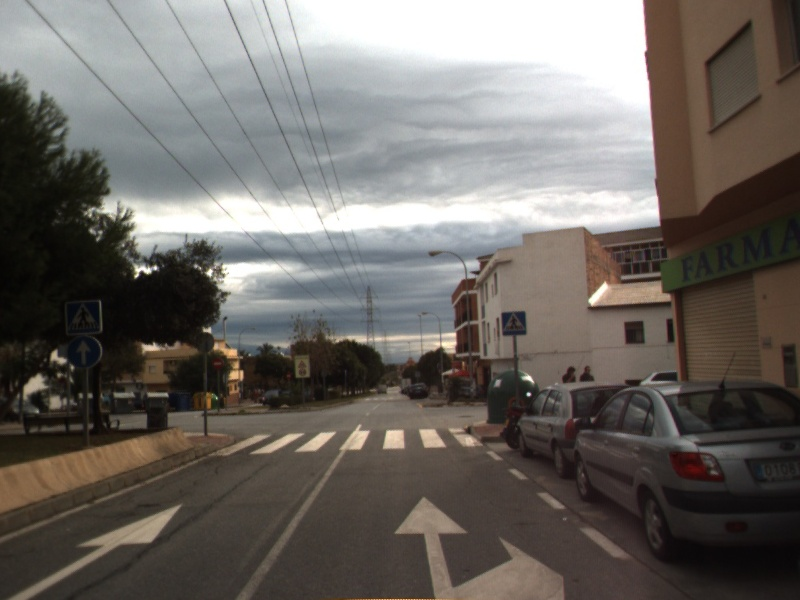STRAIGHT: (4, 502, 185, 600)
STRAIGHT_RIGHT: (391, 493, 569, 600)
